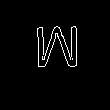M_S: (36, 29, 85, 80)
